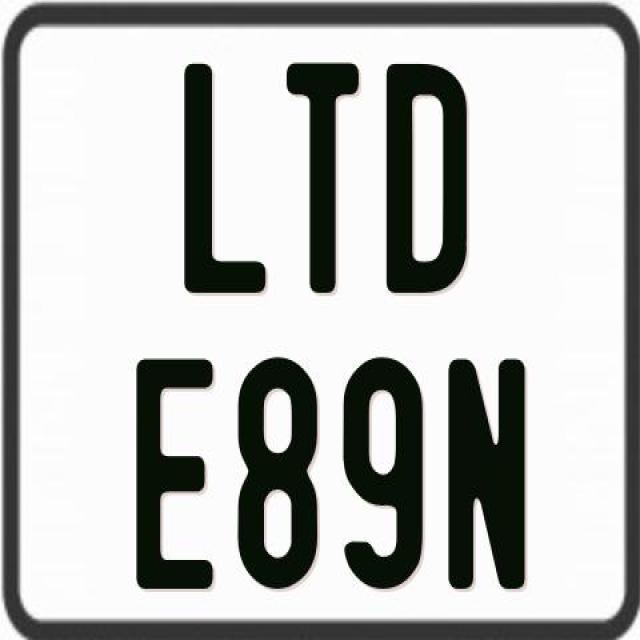8: (237, 355, 320, 592)
9: (340, 357, 427, 592)
D: (386, 59, 466, 288)
E: (136, 357, 219, 596)
L: (180, 60, 266, 298)
N: (448, 356, 528, 594)
T: (282, 64, 354, 298)
